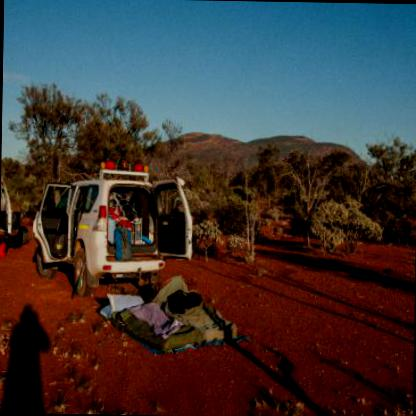car: (29, 166, 182, 307), (0, 168, 16, 236)
